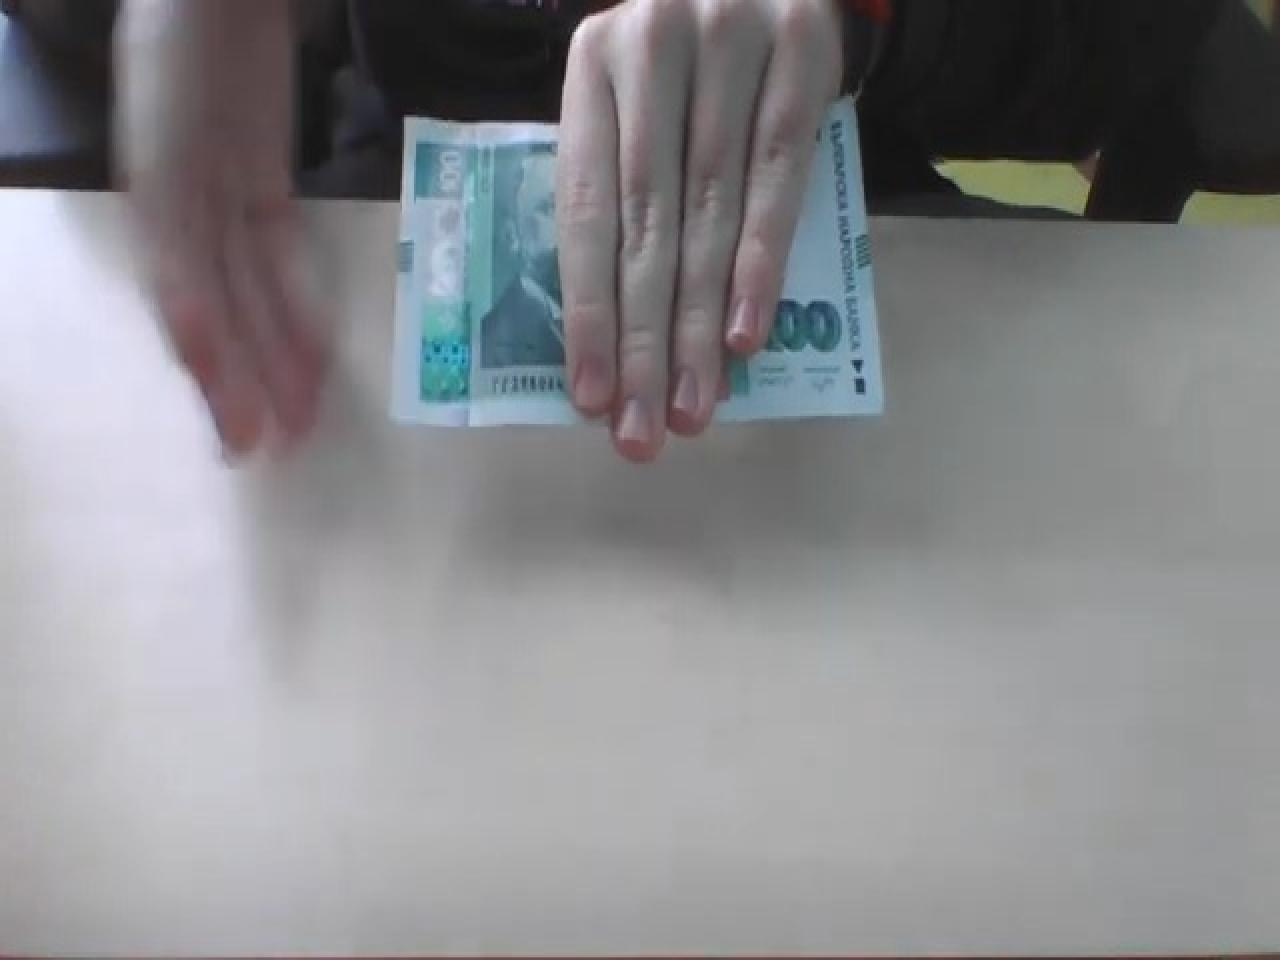100leva: (390, 96, 884, 432), (762, 293, 842, 358)
